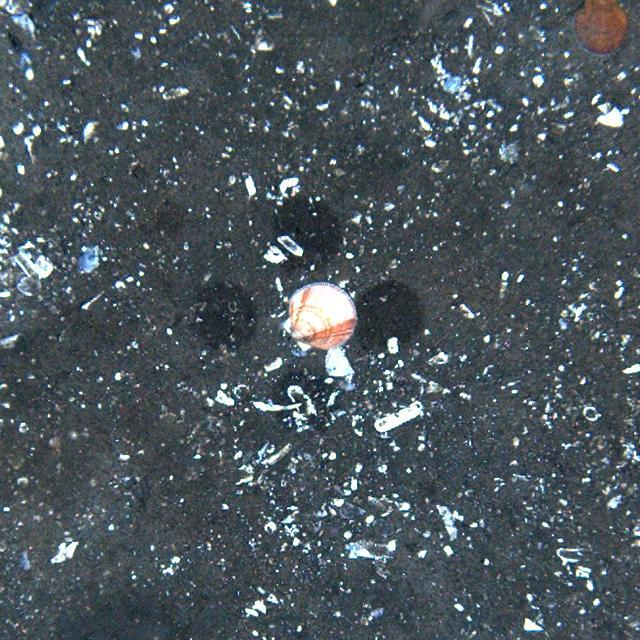scallop: (278, 282, 358, 352), (568, 0, 632, 54)
